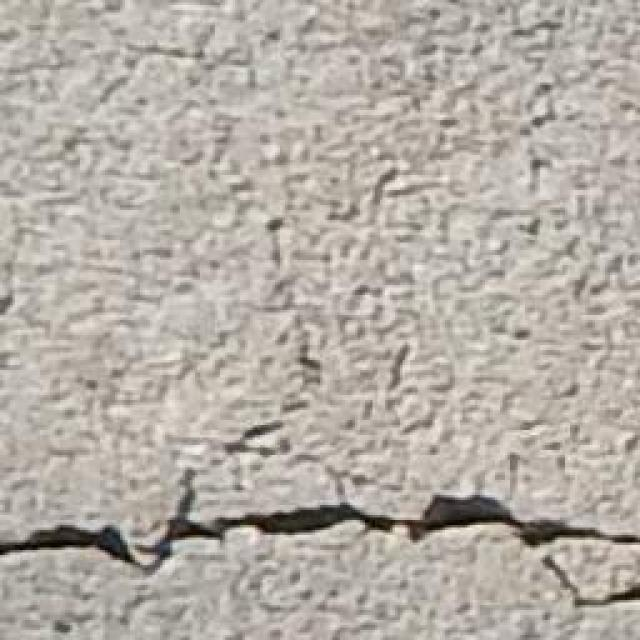concrete-crack: (2, 469, 640, 615)
